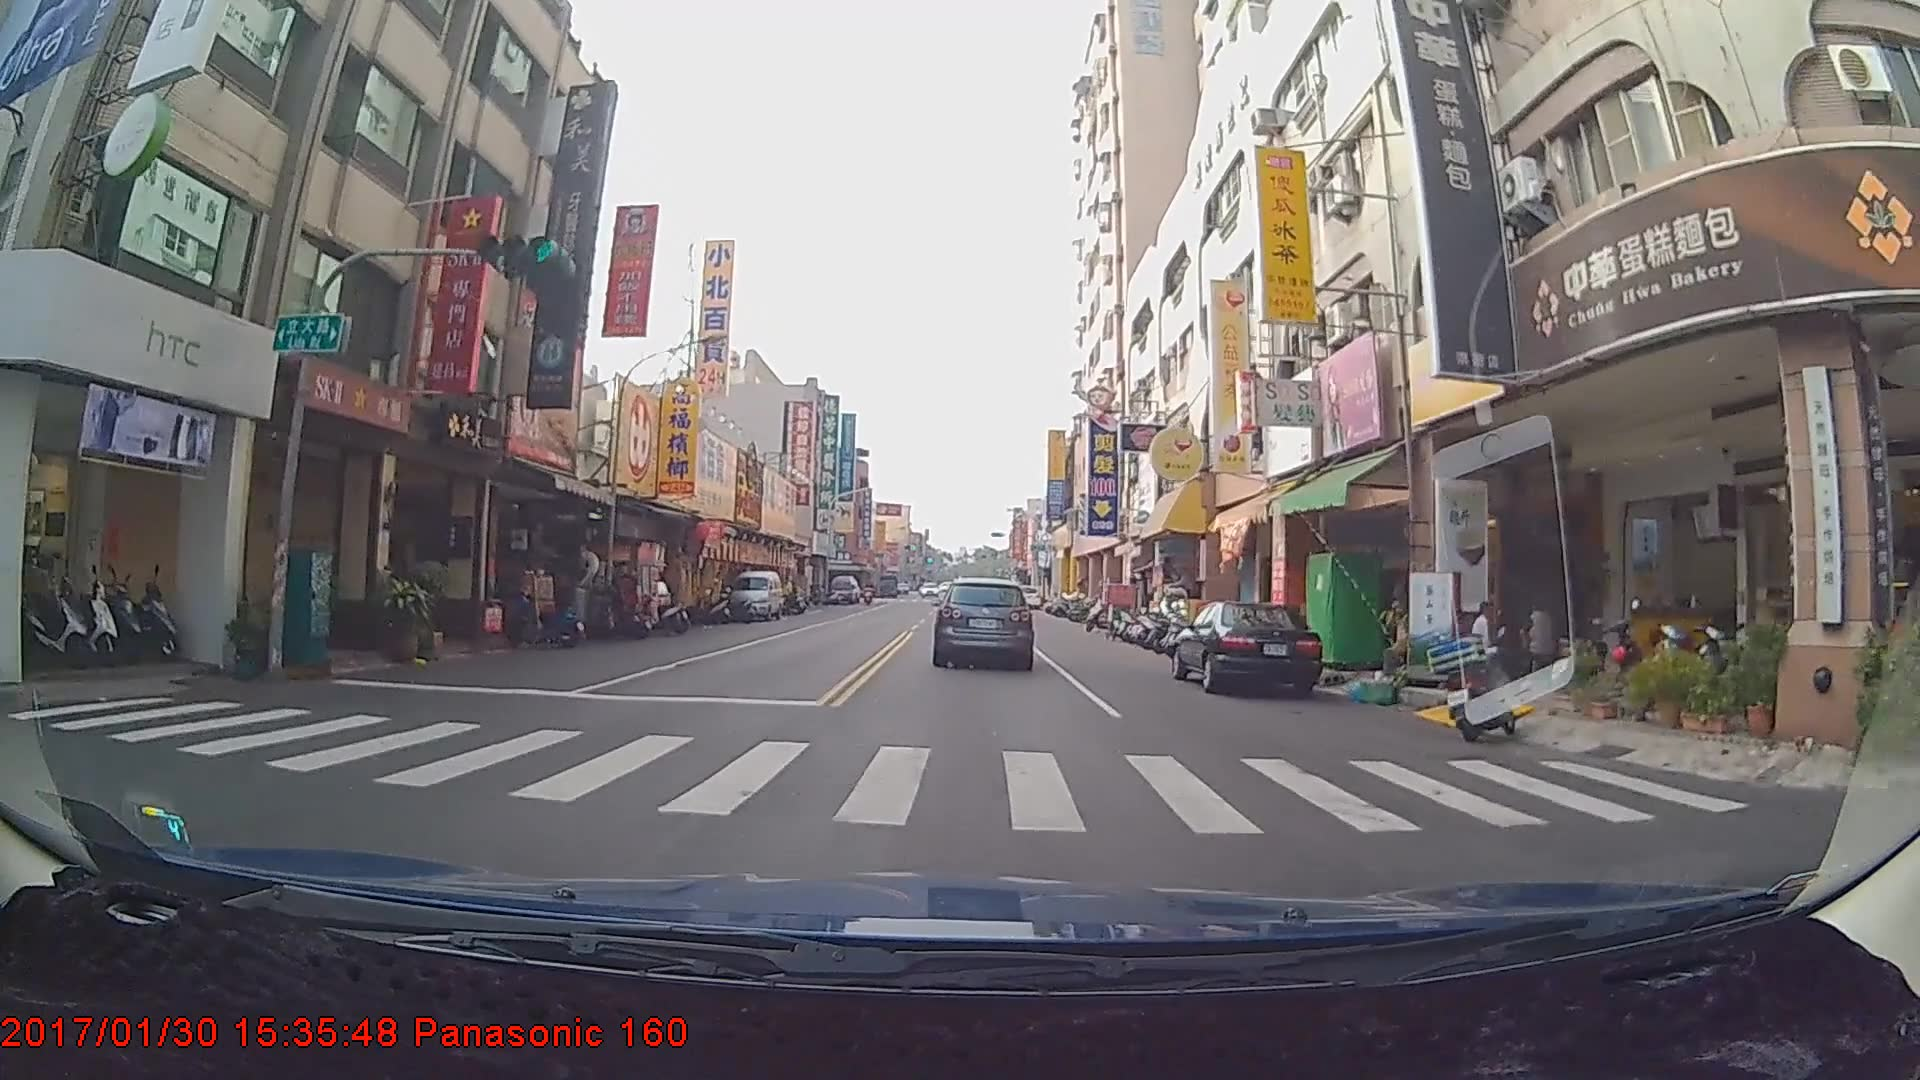pedestrian: (1514, 593, 1558, 688), (1469, 595, 1504, 686)
vehicle: (1173, 597, 1322, 696), (934, 575, 1033, 668), (725, 566, 780, 619), (828, 562, 860, 593), (1011, 582, 1038, 606)
